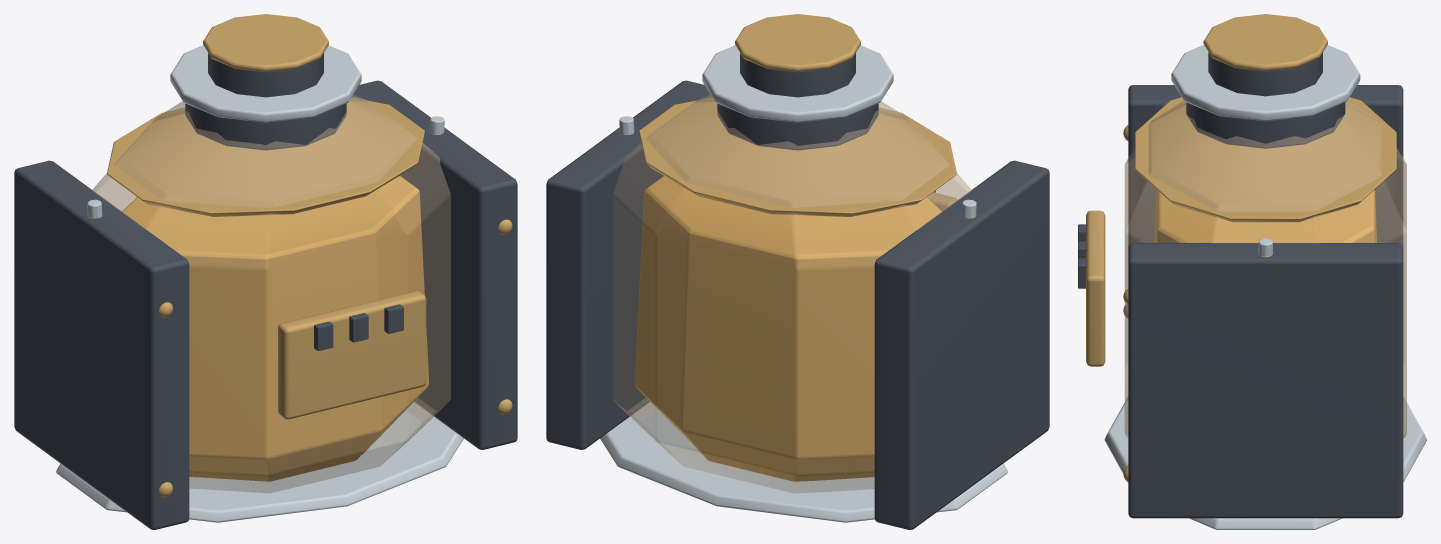
The model's file is SM_Flask_Giant.fbx.
3 views of the same model, side by side, from view 1: azimuth 30°, elevation 25°; view 2: azimuth 150°, elevation 25°; view 3: azimuth 270°, elevation 25° (orthographic).
Parts seen in each view (by area): view 1: glass_CutVessel, dark_CornerArmor, liquid_ContainedEssence, dark_CornerArmor.001, gold_ShoulderRim, metal_BaseRing, gold_FistPlate, liquid_Meniscus, metal_MouthLip, gold_CapInset, dark_NeckSleeve, dark_SealedStopper; view 2: glass_CutVessel, liquid_ContainedEssence, dark_CornerArmor, dark_CornerArmor.001, gold_ShoulderRim, metal_BaseRing, liquid_Meniscus, metal_MouthLip, gold_CapInset, dark_NeckSleeve, dark_SealedStopper; view 3: dark_CornerArmor.001, glass_CutVessel, gold_ShoulderRim, dark_CornerArmor, metal_MouthLip, liquid_Meniscus, gold_CapInset, dark_NeckSleeve, metal_BaseRing, gold_FistPlate, dark_SealedStopper, liquid_ContainedEssence.
Part boxes in pixels (x1,y1,x2,y2): glass_CutVessel: (92,95,450,493); dark_CornerArmor: (14,160,189,529); liquid_ContainedEssence: (127,178,429,481); dark_CornerArmor.001: (352,80,517,449); gold_ShoulderRim: (107,98,424,216); metal_BaseRing: (56,402,463,522); gold_FistPlate: (278,291,426,419); liquid_Meniscus: (122,176,417,257); metal_MouthLip: (170,45,361,122); gold_CapInset: (203,14,328,71); dark_NeckSleeve: (185,103,346,150); dark_SealedStopper: (208,53,323,97); glass_CutVessel: (613,95,971,493); liquid_ContainedEssence: (634,178,936,481); dark_CornerArmor: (874,160,1049,529); dark_CornerArmor.001: (546,80,711,449); gold_ShoulderRim: (639,98,956,216); metal_BaseRing: (600,402,1007,522); liquid_Meniscus: (646,176,941,257); metal_MouthLip: (702,45,893,122); gold_CapInset: (735,14,860,71); dark_NeckSleeve: (717,103,878,150); dark_SealedStopper: (740,53,855,97); dark_CornerArmor.001: (1128,243,1403,518); glass_CutVessel: (1124,101,1406,437); gold_ShoulderRim: (1135,97,1396,222); dark_CornerArmor: (1128,85,1403,246); metal_MouthLip: (1171,45,1360,121); liquid_Meniscus: (1158,191,1373,242); gold_CapInset: (1203,14,1327,71); dark_NeckSleeve: (1186,102,1345,148); metal_BaseRing: (1104,397,1426,529); gold_FistPlate: (1086,210,1105,366); dark_SealedStopper: (1208,52,1322,96); liquid_ContainedEssence: (1154,189,1376,242).
Size of the model in its own units: 44.12 by 47.5 by 36.52.
